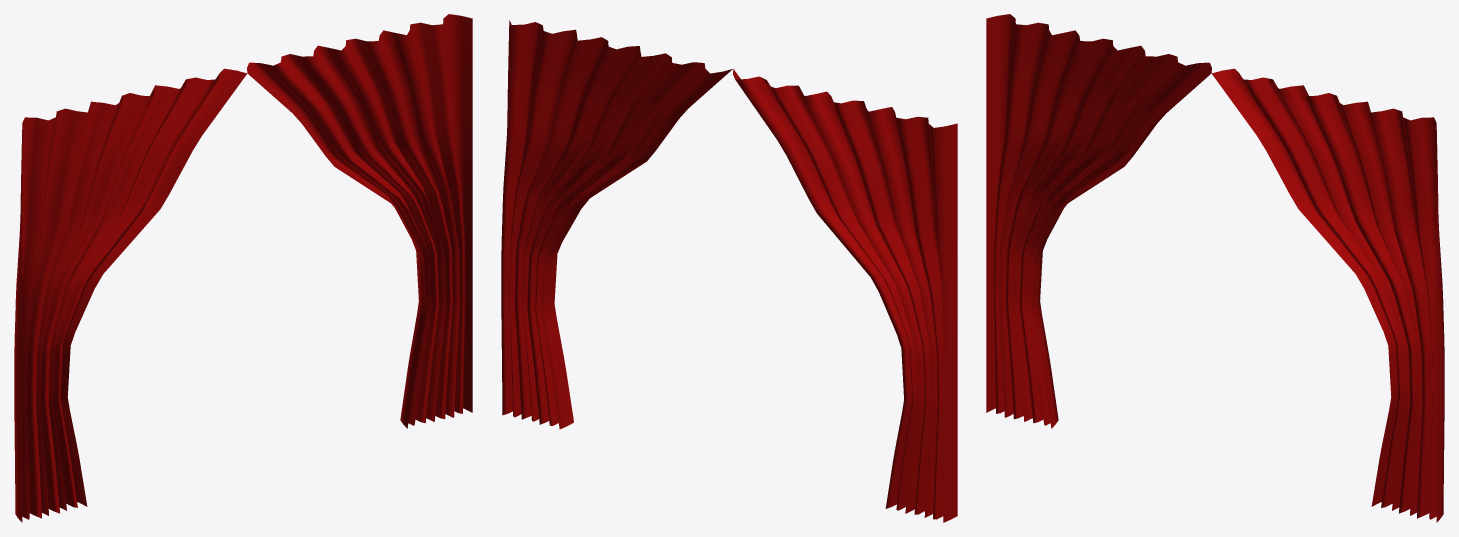
Rendered from CurtainV01_01.fbx.
3 renders of one model, left to right at view 1: azimuth 30°, elevation 25°; view 2: azimuth 150°, elevation 25°; view 3: azimuth 330°, elevation 25°, orthographic.
Visible parts, largest first — view 1: loftedSurface1; view 2: loftedSurface1; view 3: loftedSurface1.
Part boxes in pixels (bbox=[...]): loftedSurface1: bbox=[14, 14, 472, 522]; loftedSurface1: bbox=[501, 20, 957, 522]; loftedSurface1: bbox=[986, 14, 1444, 522].
Size of the model in its own units: 655 by 548 by 29.27.
